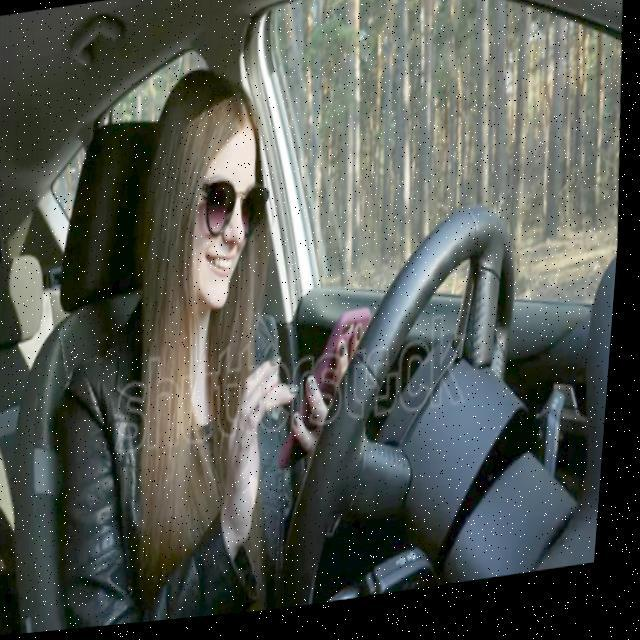PhoneCall: (282, 310, 382, 487)
